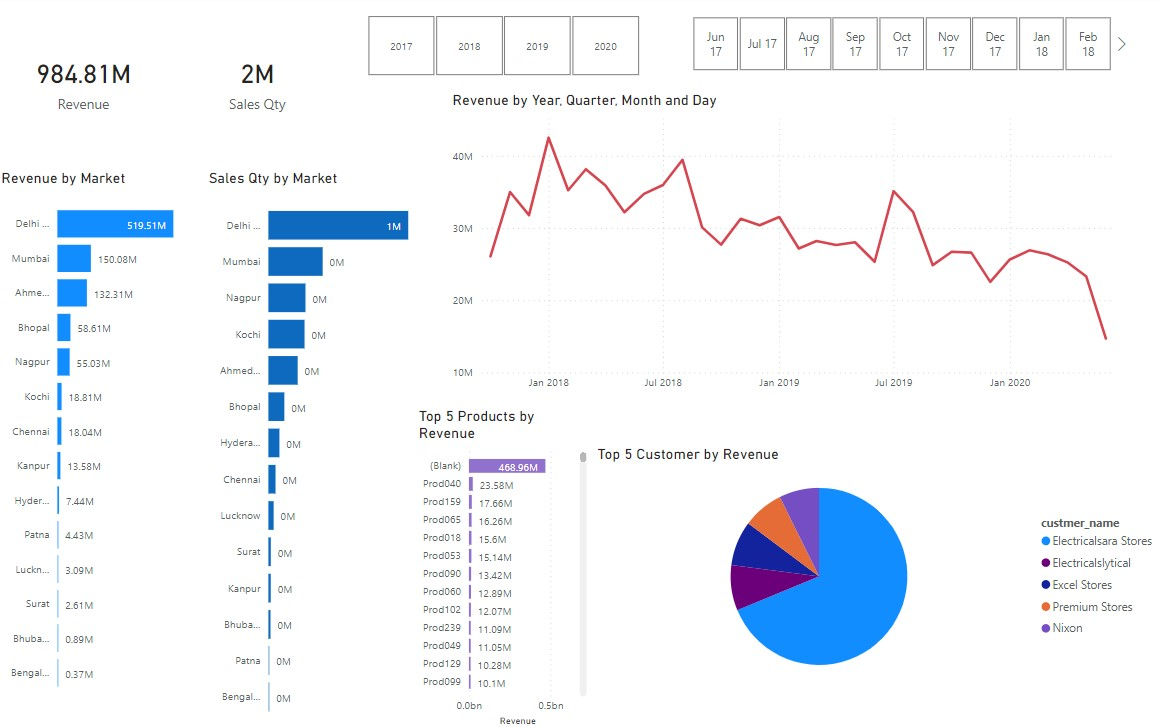

This screenshot's page, from the dashboard's own definition file:
{"tool":"powerbi","page":{"name":"Page 1","canvas":[1350,850],"ordinal":0},"visuals":[{"type":"card","fields":{"Values":["BaseMeasure.Revenue"]},"box":[0,0,200.6,200.6],"z":0},{"type":"card","fields":{"Values":["BaseMeasure.Sales Qty"]},"box":[200.6,0,200.6,200.6],"z":1000},{"type":"barChart","title":"Revenue by Market","fields":{"Y":["BaseMeasure.Revenue"],"Category":["sales markets.markets_name"]},"box":[0,201,229.9,620.3],"z":2000},{"type":"barChart","title":"Sales Qty by Market","fields":{"Y":["BaseMeasure.Sales Qty"],"Category":["sales markets.markets_name"]},"box":[239.6,200.6,242.4,649.4],"z":3000},{"type":"slicer","fields":{"Values":["sales date.year"]},"box":[403.4,17.4,363,82.4],"z":4000},{"type":"slicer","fields":{"Values":["sales date.cy_date"]},"box":[779.3,18.8,532.5,75],"z":5000},{"type":"pieChart","title":"Top 5 Customer by Revenue","fields":{"Category":["sales customers.custmer_name"],"Y":["BaseMeasure.Revenue"]},"box":[689.8,520.6,660.8,284.9],"z":6000},{"type":"barChart","title":"Top 5 Products by Revenue","fields":{"Category":["sales products.product_code"],"Y":["BaseMeasure.Revenue"]},"box":[483,477.2,203.9,373.1],"z":7000},{"type":"lineChart","fields":{"Y":["BaseMeasure.Revenue"],"Category":["sales date.cy_date.Variation.Date Hierarchy.Year","sales date.cy_date.Variation.Date Hierarchy.Quarter","sales date.cy_date.Variation.Date Hierarchy.Month","sales date.cy_date.Variation.Date Hierarchy.Day"]},"box":[522,111.3,789.5,355.7],"z":7001}]}

Visuals, with their boxes in screenshot pixels (x1, y1, x2, y2), scaled from the page's 1350x850 canvas onto the 1160x727 screenshot:
card - BaseMeasure.Revenue: select_region(0, 0, 172, 172)
card - BaseMeasure.Sales Qty: select_region(172, 0, 345, 172)
"Revenue by Market" barChart: select_region(0, 172, 198, 702)
"Sales Qty by Market" barChart: select_region(206, 172, 414, 726)
slicer - sales date.year: select_region(347, 15, 659, 85)
slicer - sales date.cy_date: select_region(670, 16, 1127, 80)
"Top 5 Customer by Revenue" pieChart: select_region(593, 445, 1159, 689)
"Top 5 Products by Revenue" barChart: select_region(415, 408, 590, 726)
lineChart - BaseMeasure.Revenue x sales date.cy_date.Variation.Date Hierarchy.Year: select_region(449, 95, 1127, 399)
